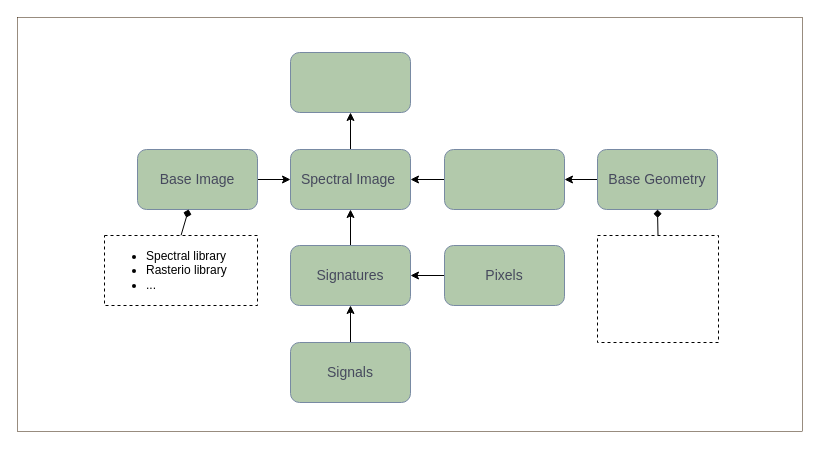
This 820x449 diagram has some shape labels left out. The shapes that lost their labels are listed below. From the top down, each one's centre as x and y in pixels, then its label:
At point (350, 82): "Spectral Image Set".
At point (504, 179): "Shapes".
At point (657, 288): "Shapely library: Points Lines Polygons ...".
